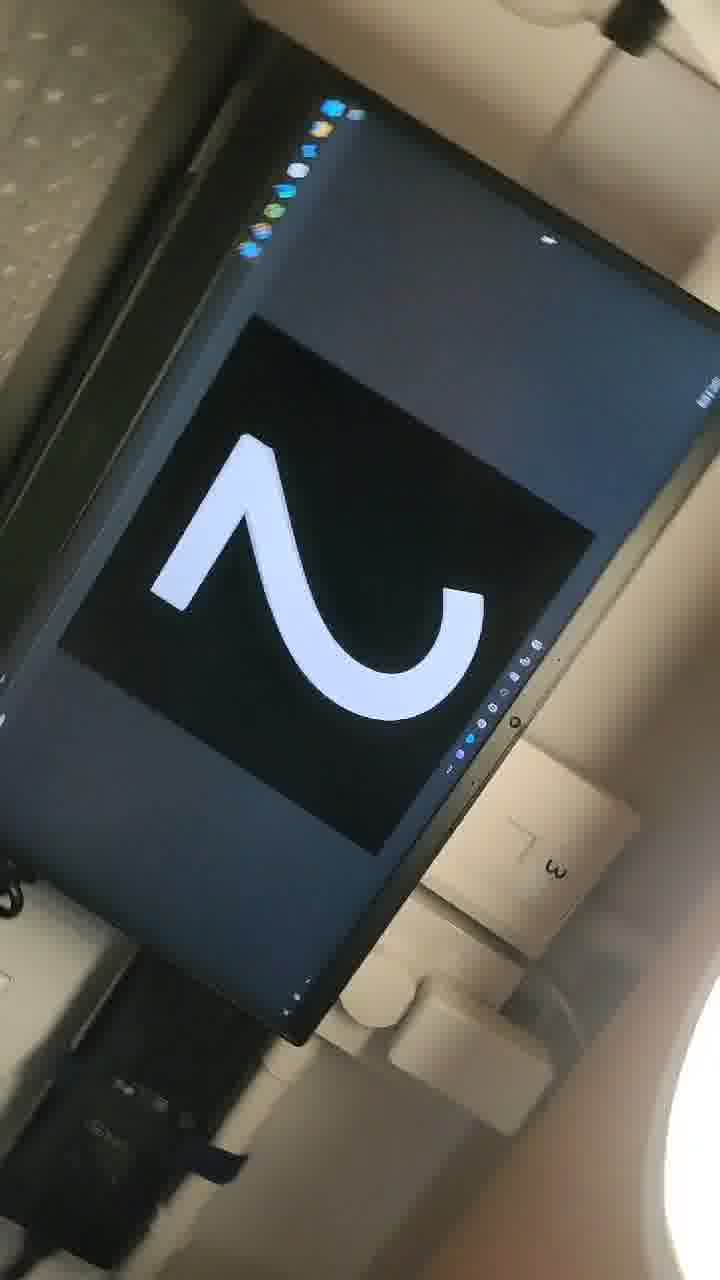two: (131, 357, 525, 786)
